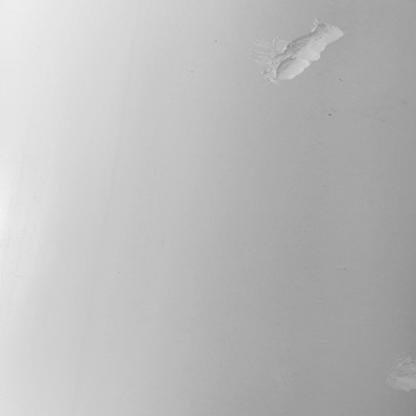sunshang: (257, 11, 347, 84), (381, 344, 414, 396)
